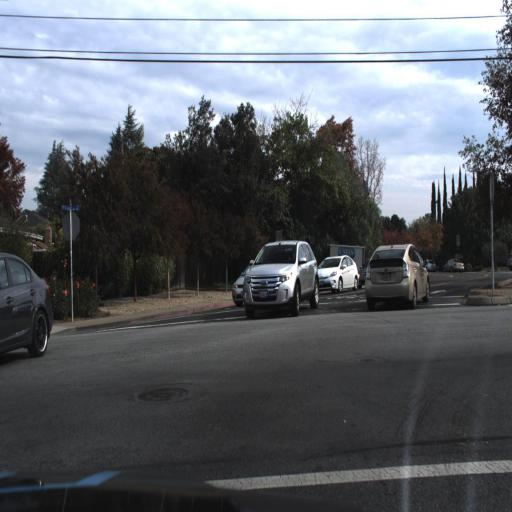car: (0, 250, 54, 369), (242, 238, 318, 315), (362, 243, 427, 319), (316, 253, 360, 293), (438, 255, 468, 279)
